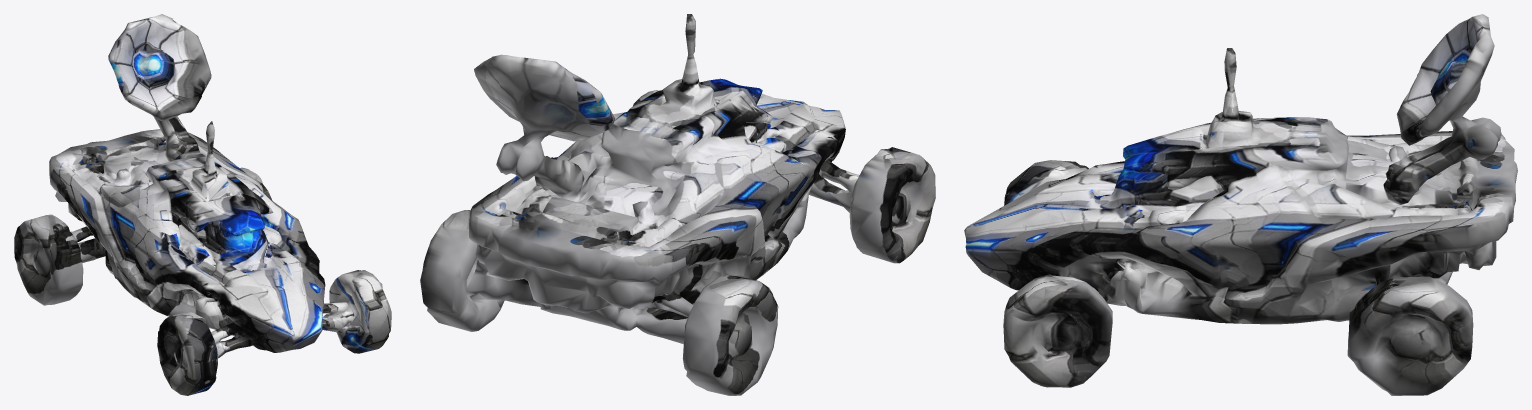
File: radian_lod1.glb
The picture shows the model from 3 angles, left to right: view 1: azimuth 30°, elevation 25°; view 2: azimuth 150°, elevation 25°; view 3: azimuth 270°, elevation 25°; orthographic projection. The views are drawn at different scales.
Parts seen in each view (by area): view 1: geometry_0; view 2: geometry_0; view 3: geometry_0.
Boxes of the visible parts, box(x1,y1,x2,y2) form: geometry_0: box(14, 14, 391, 395); geometry_0: box(420, 14, 935, 395); geometry_0: box(964, 14, 1517, 395).
Bounding box in the file's own units: 1.28 × 1.26 × 1.99.
1 material, 1 textured.
